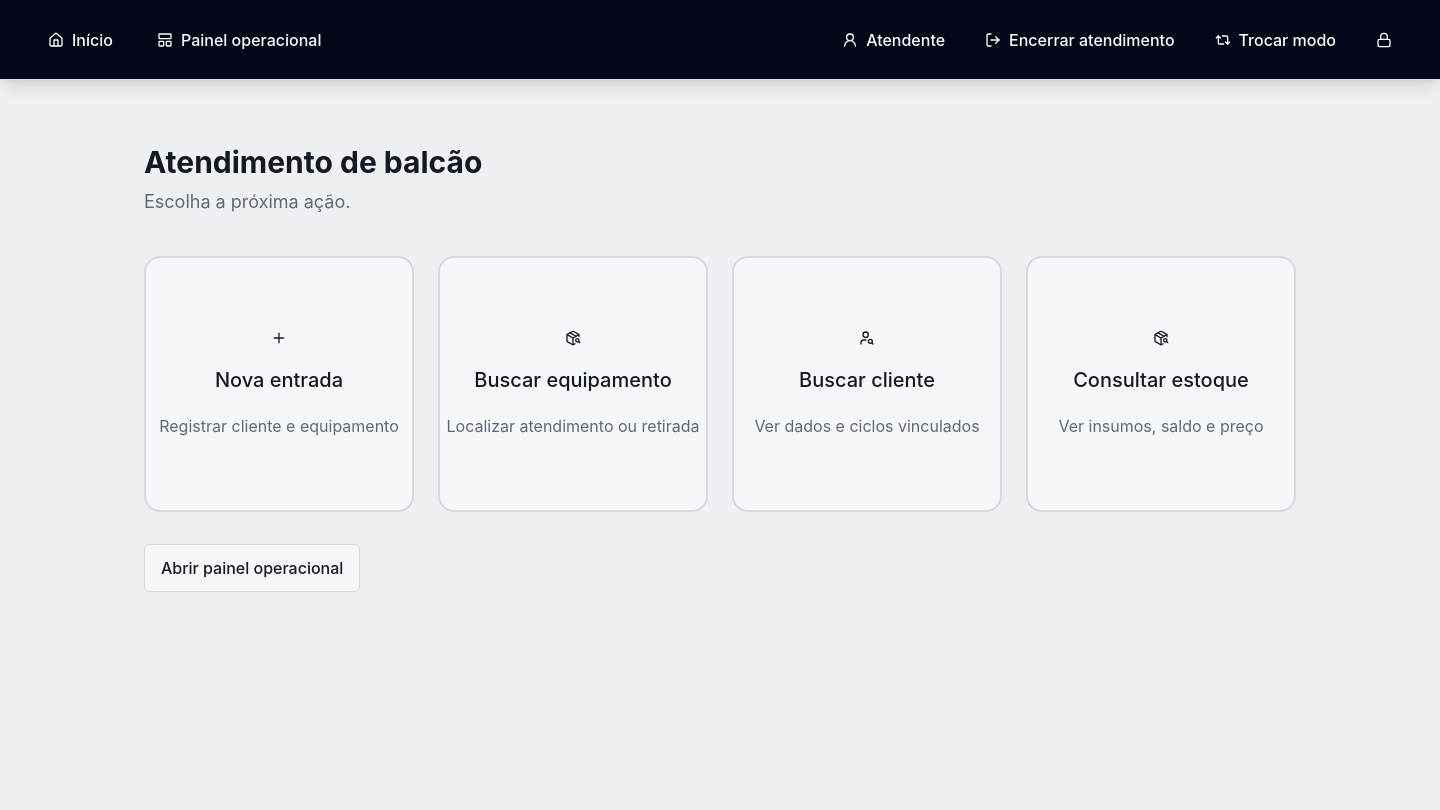
Modo Balcão › consulta o estoque e mostra o preço de venda sem permitir alteração
Click the button "Consultar estoque Ver insumos, saldo e preço": click(1161, 384) x1=1026 y1=256 x2=1296 y2=512
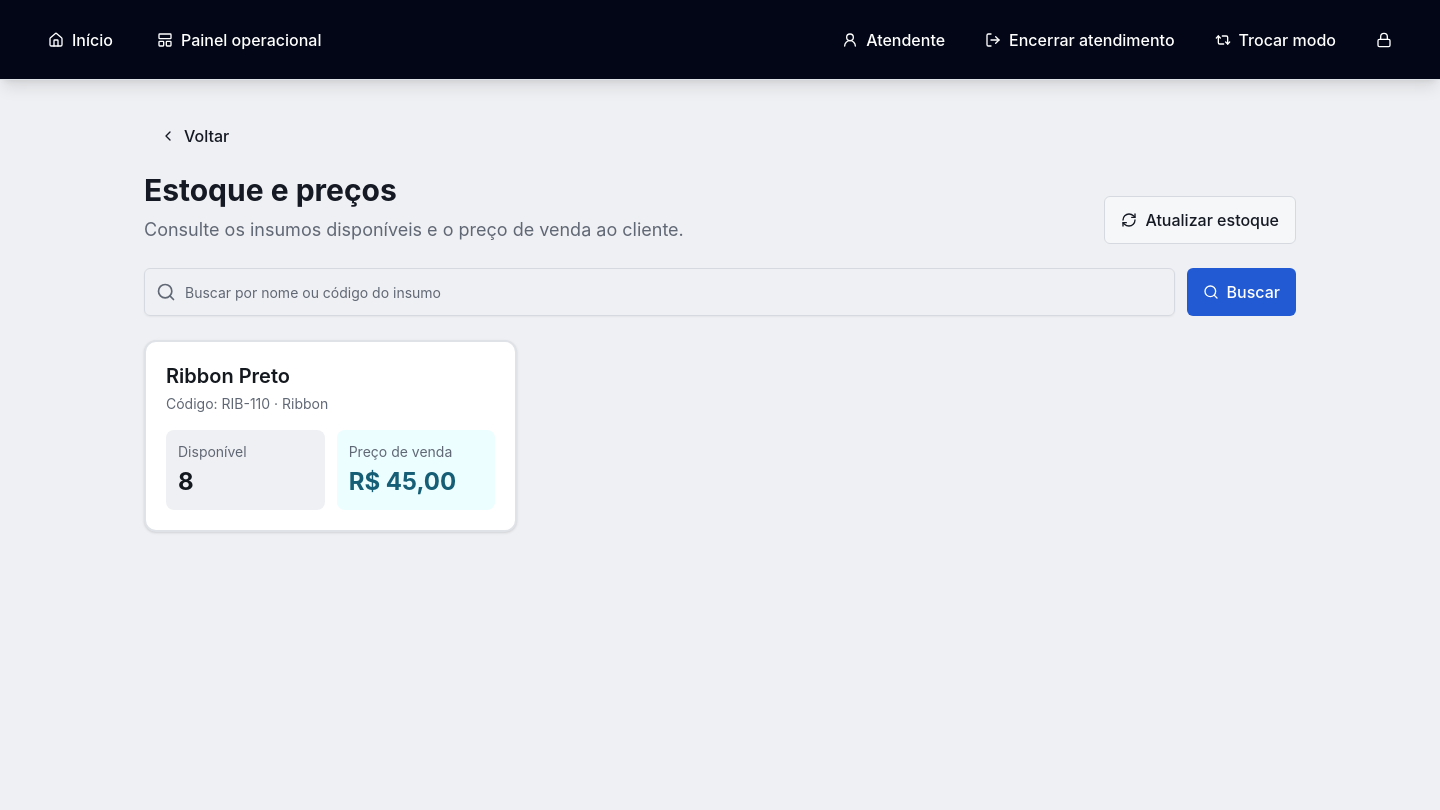
Now the heading "Ribbon Preto" is shown, box x1=166 y1=364 x2=290 y2=388
Now the text "R$ 45,00" is shown, box x1=349 y1=467 x2=456 y2=496
